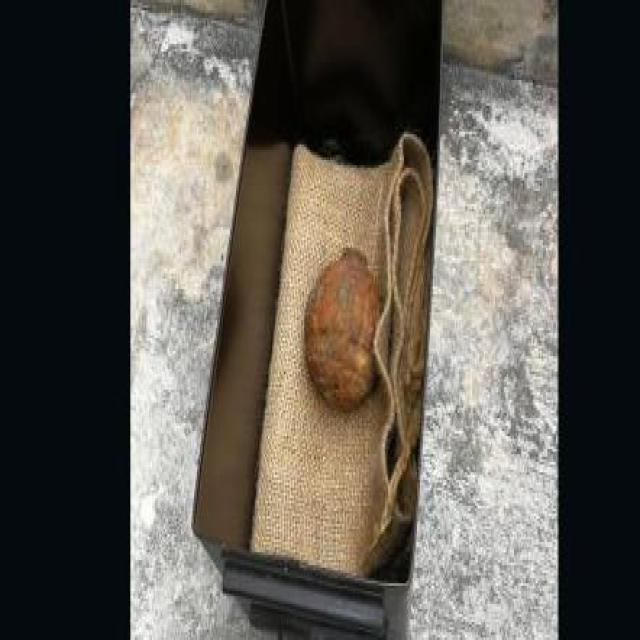grenade: (302, 245, 383, 416)
